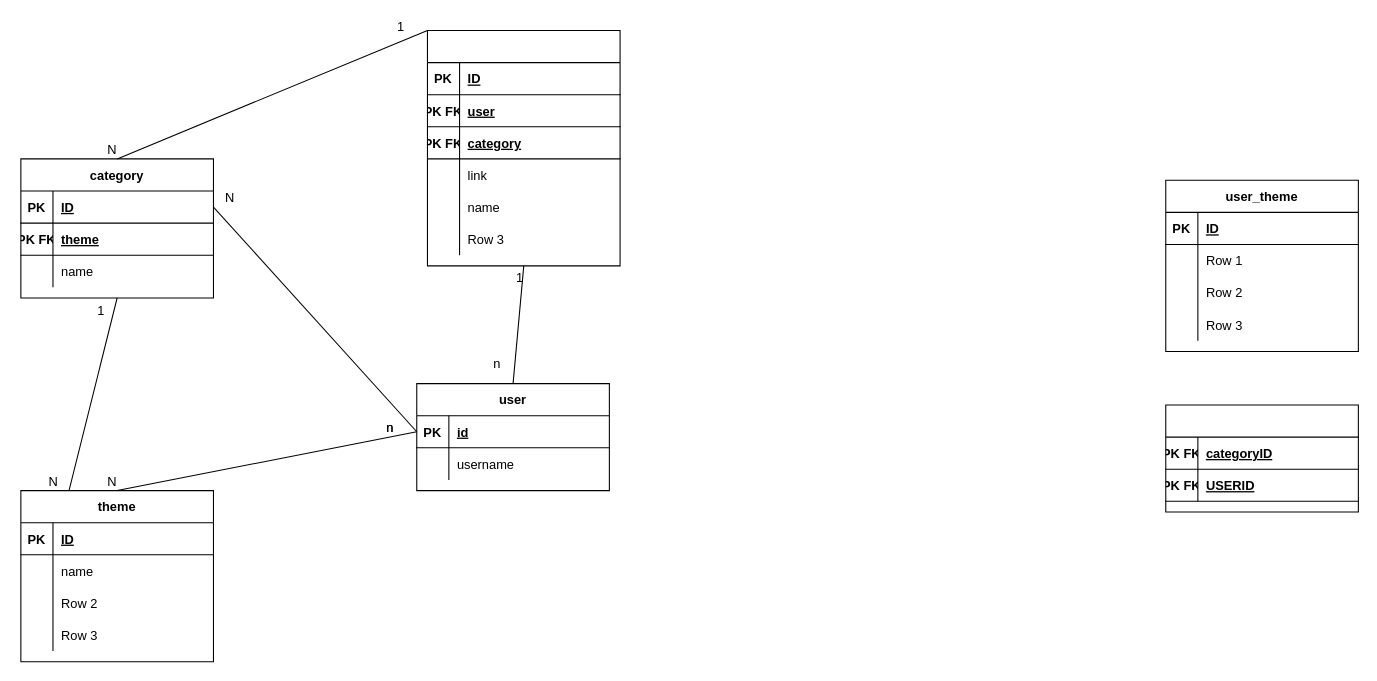
Image size: 1377x681. Some labels were removed from this diagram. The box of each missing label's shape, as (x1, y1, x2, y2) in pixels:
item: (426, 29, 620, 266)
user_category: (1165, 404, 1358, 512)
